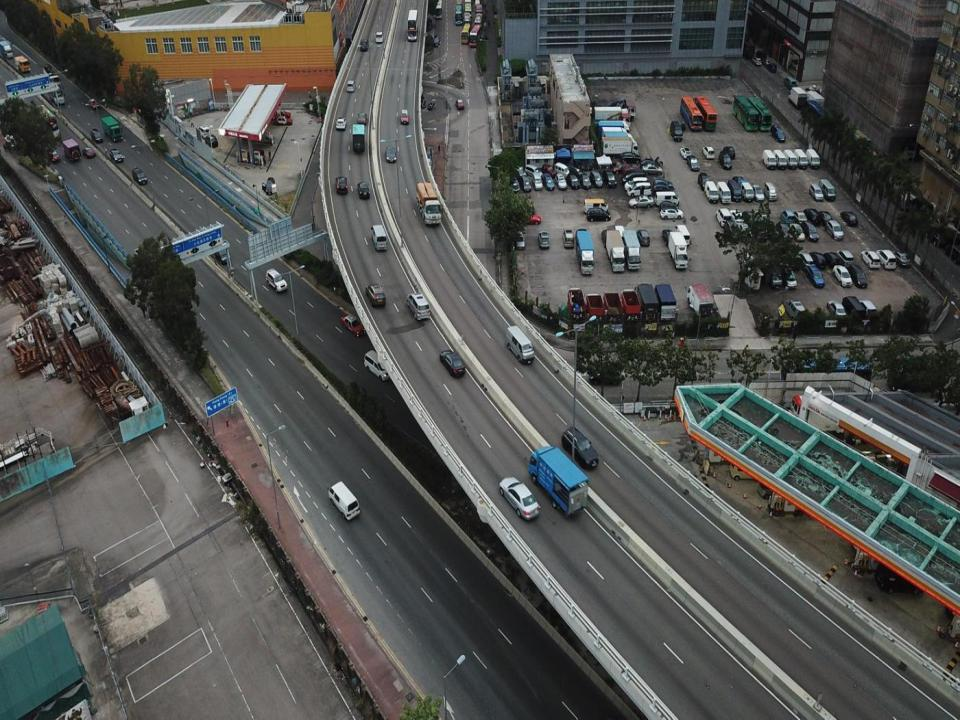bus: (781, 349, 874, 393), (802, 97, 834, 144), (30, 100, 60, 140), (731, 95, 760, 133), (746, 97, 774, 133), (40, 65, 65, 105), (680, 93, 702, 134), (694, 95, 717, 132), (407, 9, 419, 39), (468, 24, 482, 46), (460, 21, 471, 46), (432, 0, 444, 20), (462, 9, 473, 29), (473, 11, 484, 31), (455, 4, 464, 26), (474, 5, 485, 21), (464, 3, 473, 19), (475, 0, 483, 15)
car: (498, 475, 541, 522), (560, 424, 598, 471), (405, 292, 431, 322), (361, 280, 386, 307), (440, 349, 464, 377), (342, 311, 366, 337), (831, 260, 852, 289), (265, 266, 287, 293), (209, 243, 234, 266), (849, 261, 867, 290), (519, 209, 545, 228), (785, 295, 804, 320), (854, 297, 876, 318), (876, 248, 897, 270), (586, 206, 612, 223), (860, 248, 880, 270), (624, 173, 647, 192), (783, 260, 798, 289), (806, 263, 824, 287), (891, 248, 910, 270), (623, 167, 645, 186), (629, 193, 653, 210), (828, 298, 845, 322), (796, 248, 813, 272), (807, 250, 827, 270), (802, 220, 819, 243), (826, 218, 843, 240), (802, 206, 820, 226), (261, 176, 277, 198), (649, 184, 674, 198), (840, 207, 858, 226), (835, 248, 852, 268), (603, 166, 617, 190), (660, 206, 681, 222), (790, 222, 806, 243), (636, 154, 660, 168), (627, 182, 650, 196), (718, 150, 734, 170), (356, 179, 371, 200), (600, 226, 613, 250), (132, 164, 146, 186), (272, 115, 294, 129), (651, 176, 673, 190), (808, 183, 824, 202), (536, 230, 551, 250), (578, 170, 593, 190), (620, 149, 640, 164), (715, 206, 730, 226), (777, 222, 793, 240), (514, 228, 526, 252), (561, 228, 574, 250), (662, 226, 676, 246), (543, 171, 556, 192), (771, 124, 786, 142), (522, 162, 540, 177), (817, 207, 831, 226), (642, 162, 661, 176), (531, 169, 543, 191), (270, 107, 290, 120), (697, 172, 710, 192), (778, 209, 794, 225), (728, 208, 743, 225), (553, 173, 567, 191), (825, 250, 839, 268), (768, 264, 778, 289), (108, 148, 123, 164), (336, 176, 348, 196), (520, 174, 532, 194), (700, 143, 715, 159), (636, 229, 650, 246), (90, 126, 103, 144), (687, 153, 700, 171), (750, 183, 763, 201), (399, 106, 410, 127), (794, 209, 809, 224), (205, 133, 219, 149), (385, 145, 397, 163), (590, 169, 602, 187), (334, 115, 347, 131), (566, 172, 579, 188), (543, 162, 556, 178), (82, 144, 95, 159), (661, 200, 678, 211), (355, 111, 368, 125), (375, 28, 384, 45), (346, 77, 356, 92), (454, 97, 464, 111), (361, 36, 369, 53), (88, 98, 99, 110), (680, 146, 691, 158), (766, 61, 778, 72), (432, 33, 440, 46), (763, 56, 771, 66), (753, 56, 761, 65)
truck: (528, 443, 589, 518), (413, 180, 443, 228), (652, 281, 678, 336), (633, 278, 659, 332), (685, 284, 715, 324), (592, 100, 630, 128), (595, 101, 637, 125), (600, 135, 638, 161), (618, 287, 641, 329), (574, 228, 594, 276), (596, 112, 631, 139), (667, 229, 689, 270), (620, 228, 641, 270), (604, 228, 624, 272), (567, 286, 588, 327), (602, 291, 624, 328), (601, 130, 634, 154), (100, 114, 123, 144), (801, 85, 823, 116), (597, 120, 630, 140), (586, 292, 606, 324), (600, 126, 628, 146), (351, 122, 367, 154), (787, 87, 808, 110), (63, 137, 80, 162), (14, 54, 30, 78), (0, 38, 14, 62)
van: (506, 324, 536, 368), (328, 481, 360, 520), (364, 347, 392, 384), (844, 294, 864, 322), (370, 224, 388, 252), (674, 222, 693, 248), (763, 147, 778, 174), (583, 198, 608, 214), (612, 222, 628, 246), (726, 178, 742, 202), (716, 180, 731, 205), (805, 145, 820, 170), (772, 148, 788, 170), (820, 177, 835, 200), (783, 149, 798, 171), (703, 180, 717, 203), (762, 181, 777, 200), (795, 148, 808, 169), (670, 120, 682, 142), (554, 162, 569, 179), (198, 123, 212, 138), (741, 181, 752, 200), (785, 75, 798, 90)
